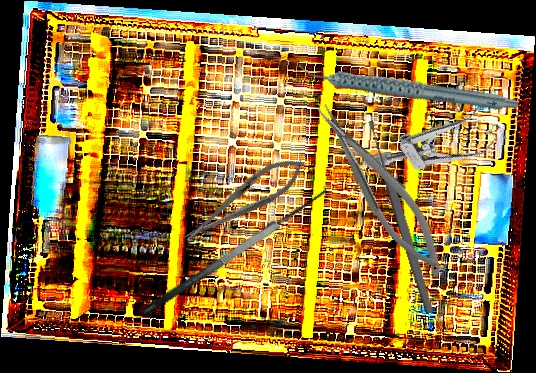Handpiece: (296, 18, 520, 153)
Needle Holder: (308, 91, 457, 288), (176, 147, 312, 253)
Spatula Surgical: (130, 174, 334, 318)
Speculum: (363, 80, 519, 212)
Surgical Spoon: (365, 119, 436, 315)
